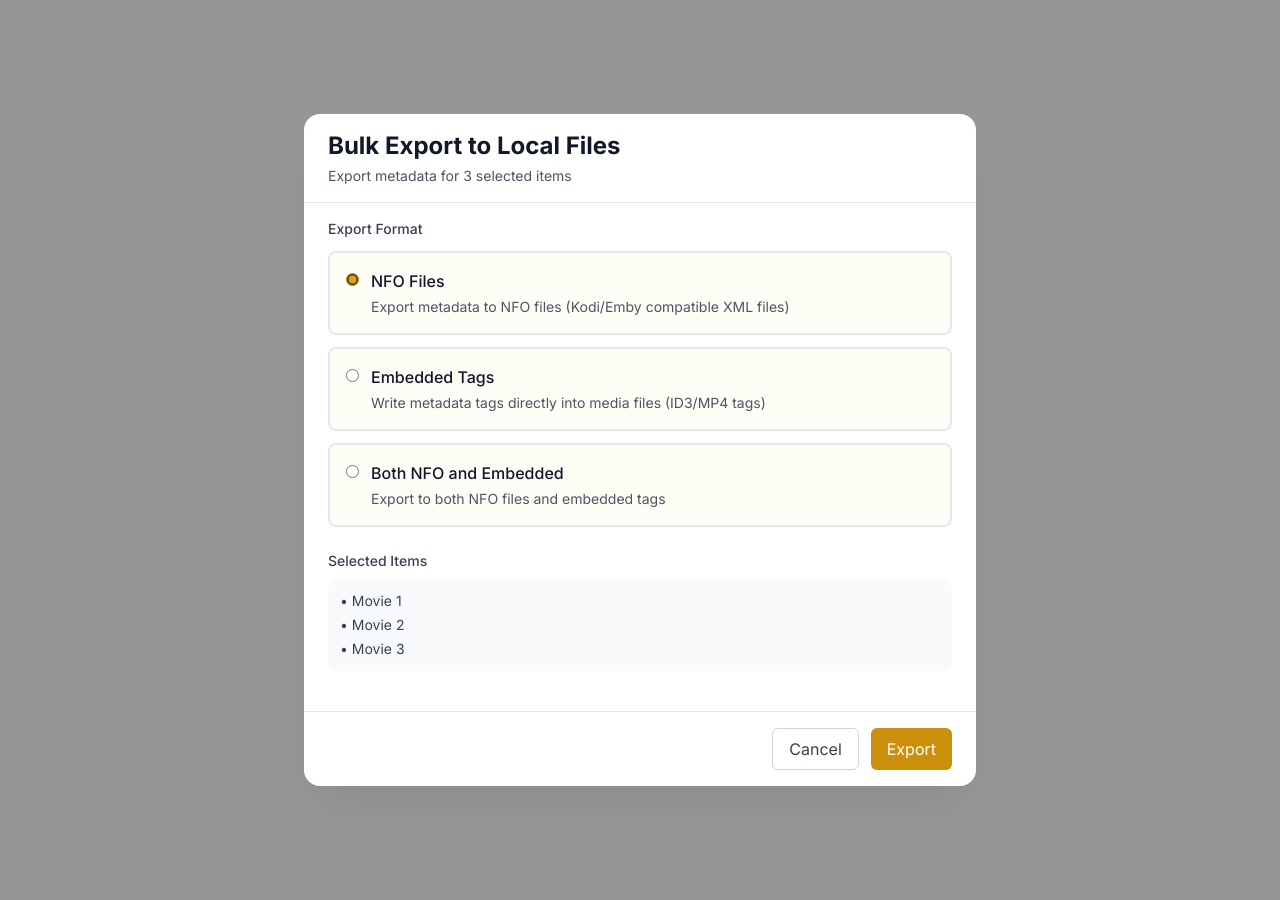
Test: BulkExportModal › should show loading state during export
Click the button "Export" at point(911, 749), box [871, 728, 952, 770]
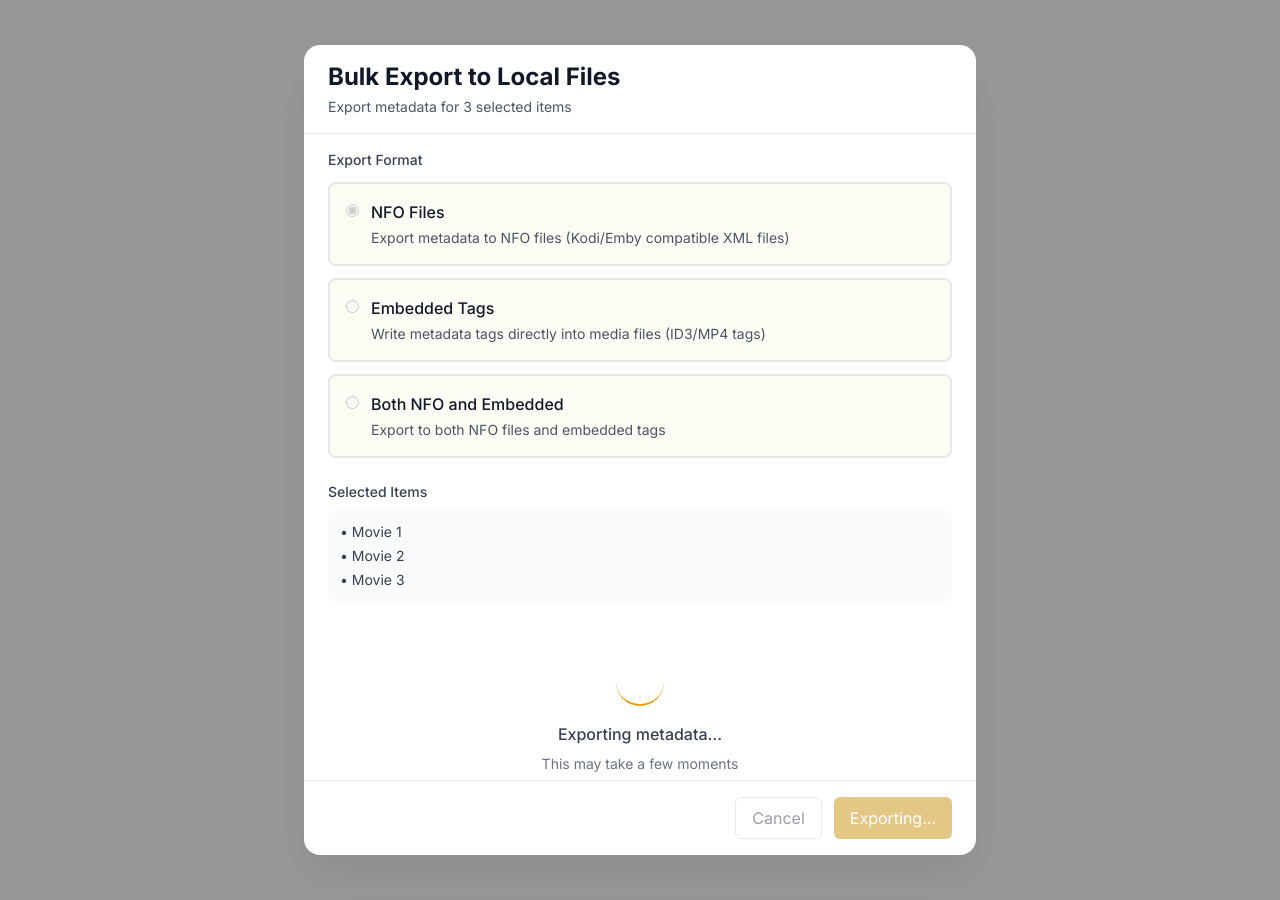
Expected: the text "Exporting metadata..." is shown, [558, 724, 722, 744]
Expected: the text "This may take a few moments" is shown, [542, 754, 738, 774]
